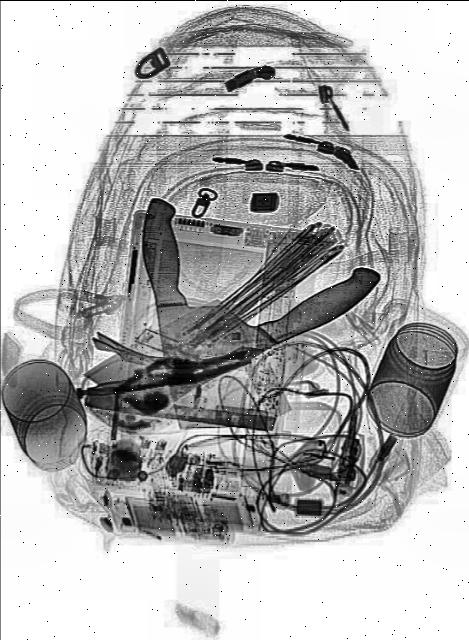Knife: (82, 209, 384, 455), (131, 177, 273, 455)
